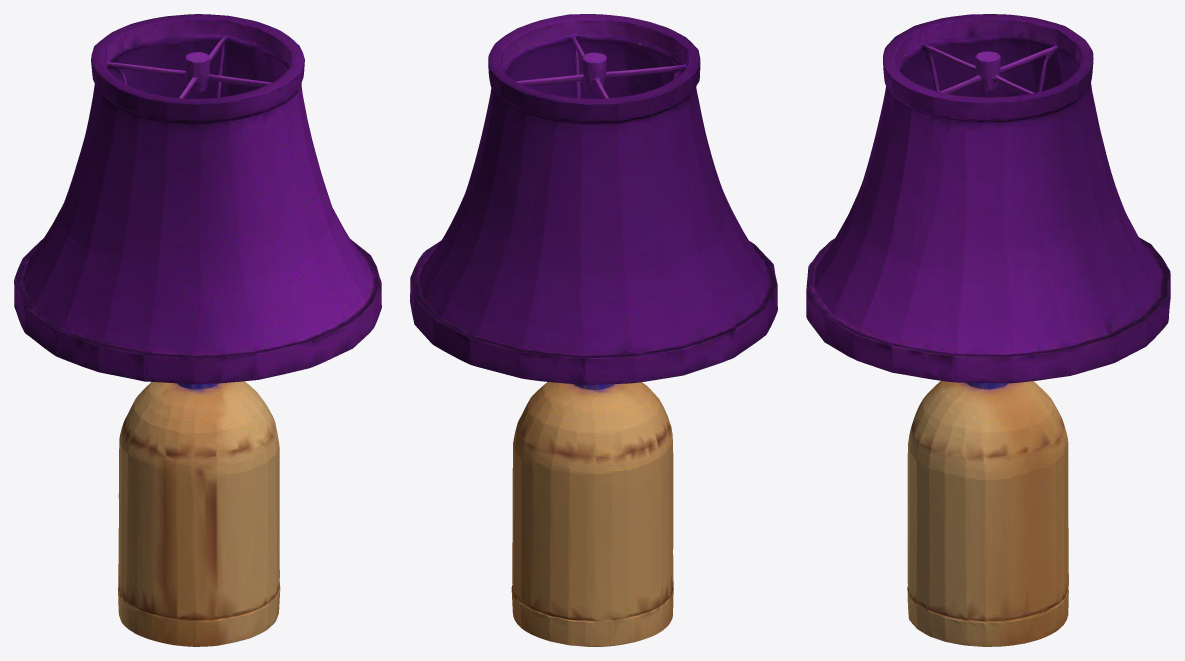
The model's file is purple_table_lamp_on_side_table_000.glb.
3 renders of one model, left to right at view 1: azimuth 30°, elevation 25°; view 2: azimuth 150°, elevation 25°; view 3: azimuth 270°, elevation 25°, orthographic.
Parts seen in each view (by area): view 1: phase2_final_purple_table_lamp_on_side_table_000.obj; view 2: phase2_final_purple_table_lamp_on_side_table_000.obj; view 3: phase2_final_purple_table_lamp_on_side_table_000.obj.
Boxes of the visible parts, box(x1,y1,x2,y2) form: phase2_final_purple_table_lamp_on_side_table_000.obj: box(14, 14, 381, 646); phase2_final_purple_table_lamp_on_side_table_000.obj: box(410, 14, 777, 646); phase2_final_purple_table_lamp_on_side_table_000.obj: box(806, 14, 1170, 646).
Size of the model in its own units: 0.2312 by 0.3901 by 0.2312.
1 material, 1 textured.
